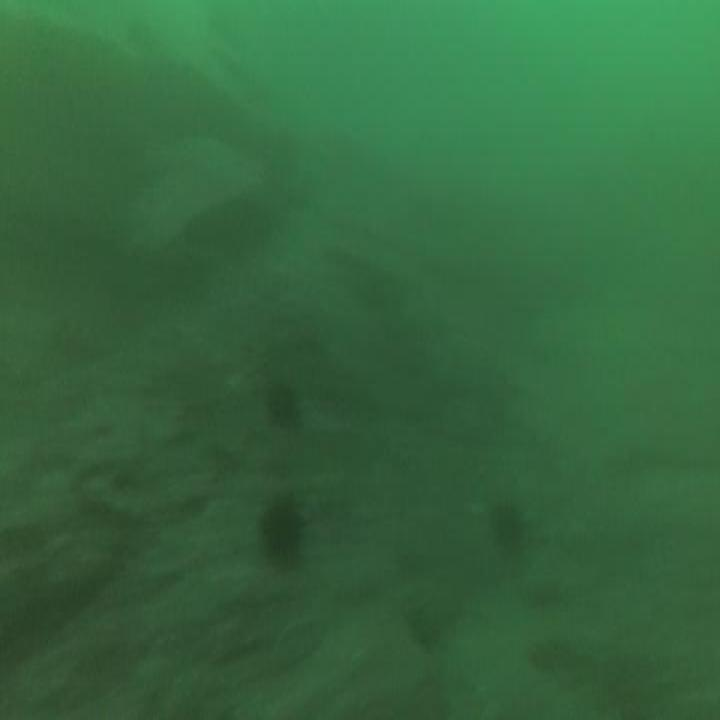echinus: (261, 503, 300, 564), (488, 500, 524, 556), (265, 380, 298, 434)
